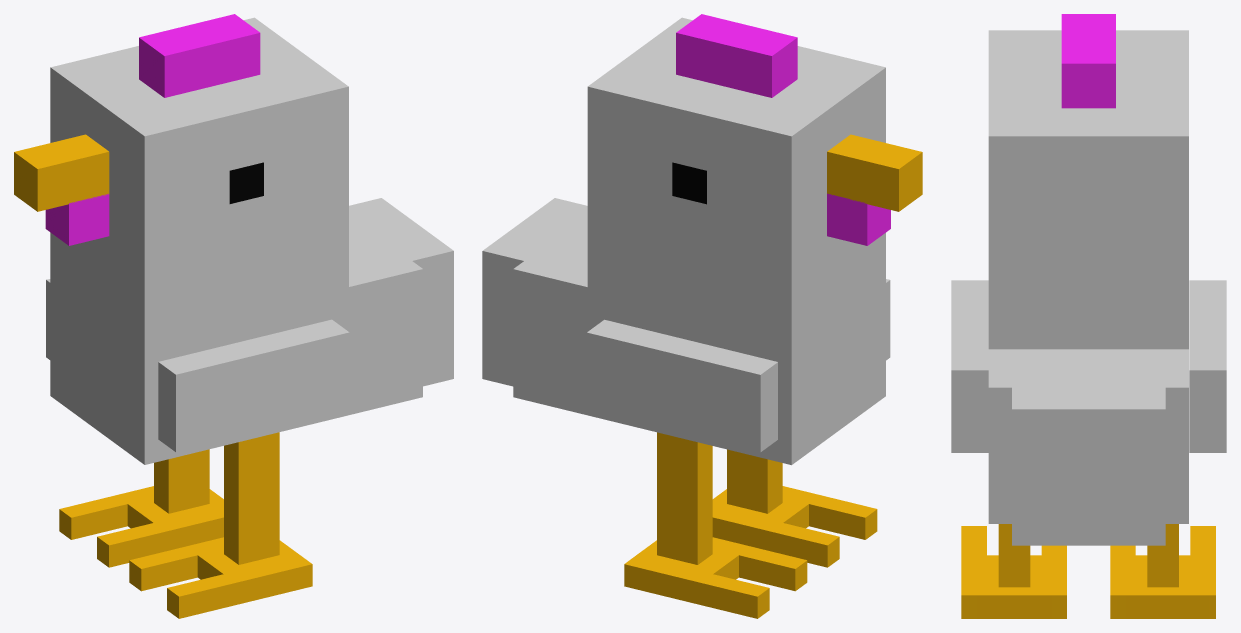
File: chicken.glb
The picture shows the model from 3 angles, left to right: view 1: azimuth 30°, elevation 25°; view 2: azimuth 150°, elevation 25°; view 3: azimuth 270°, elevation 25°; orthographic projection. The views are drawn at different scales.
Parts seen in each view (by area): view 1: pCube12; view 2: pCube12; view 3: pCube12.
Part boxes in pixels (x1,y1,x2,y2): pCube12: [14, 14, 453, 618]; pCube12: [482, 14, 922, 618]; pCube12: [951, 14, 1226, 618].
Size of the model in its own units: 9.6 by 12.18 by 5.5.
